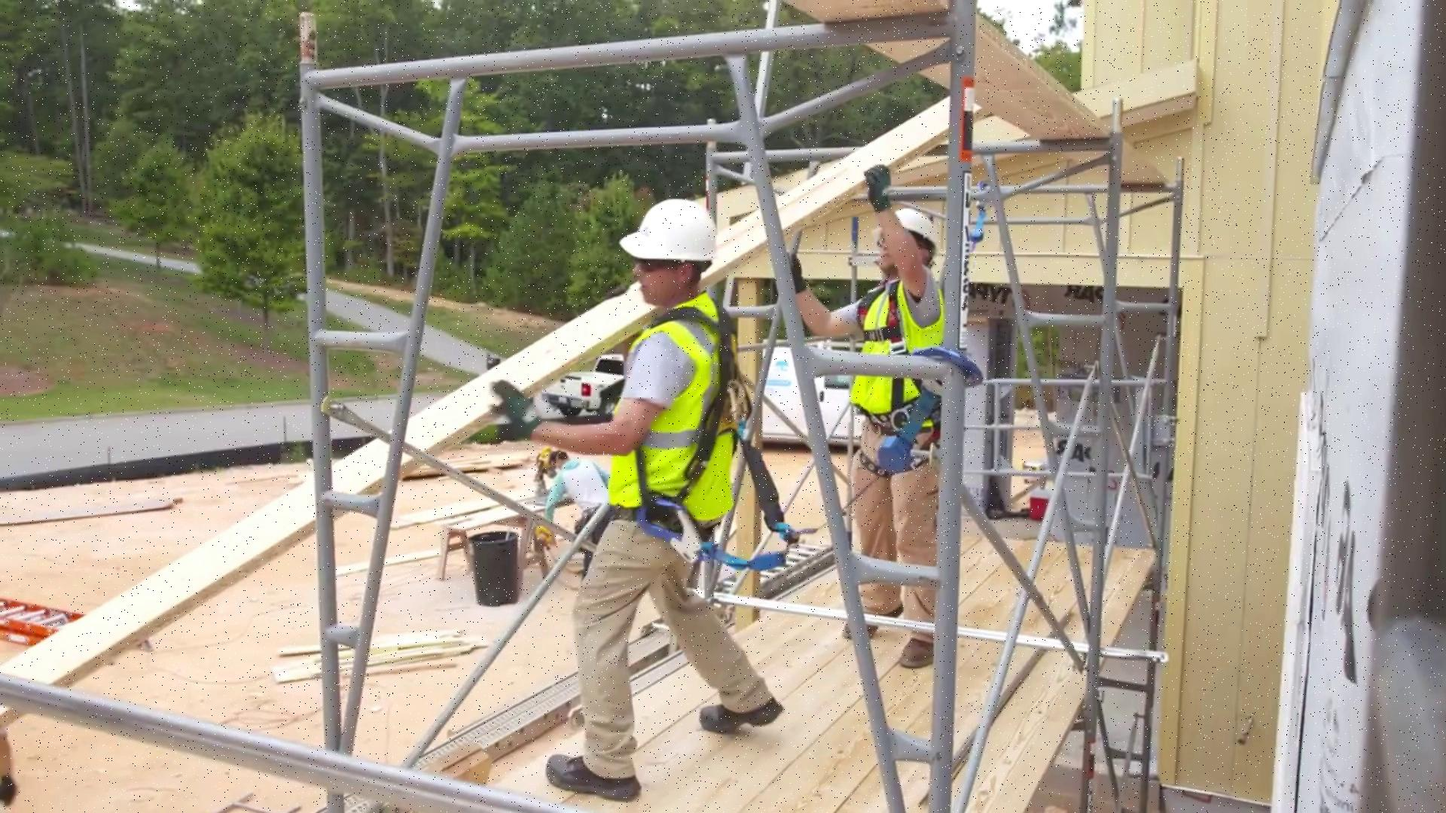Hard_hat: (622, 196, 721, 268), (885, 202, 944, 261)
Vest: (847, 273, 944, 428)
